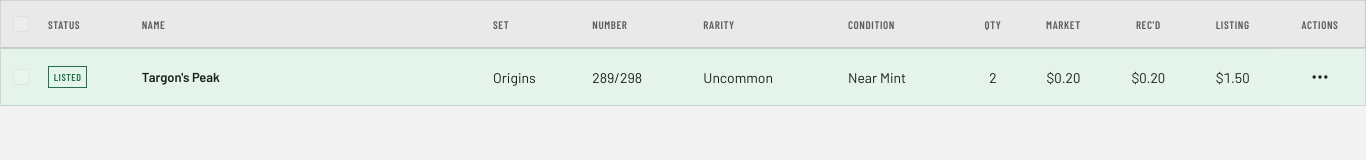
Test: CardTable display-first listing price editing › saves the decimal value through the explicit Save control and confirms success
Click the button named "edit listing price" at {"x": 1233, "y": 77}, box [1216, 68, 1250, 86]
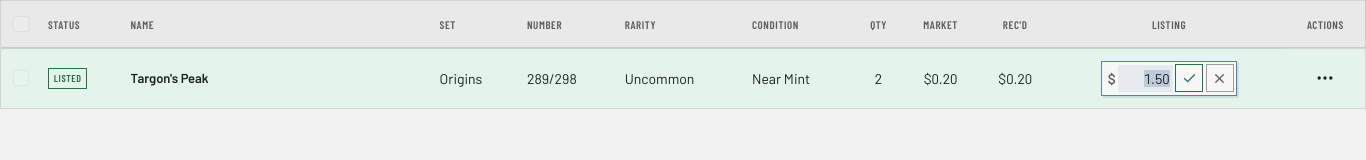
Replace the text in the field named "listing price" with "2.00" at {"x": 1145, "y": 78}, box [1118, 65, 1173, 92]
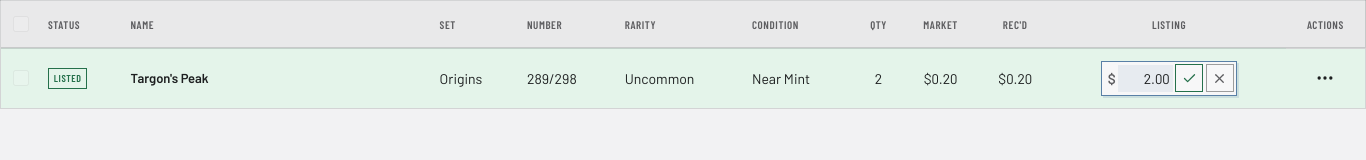
Click the button named "save listing price" at {"x": 1189, "y": 78}, box [1175, 64, 1203, 92]
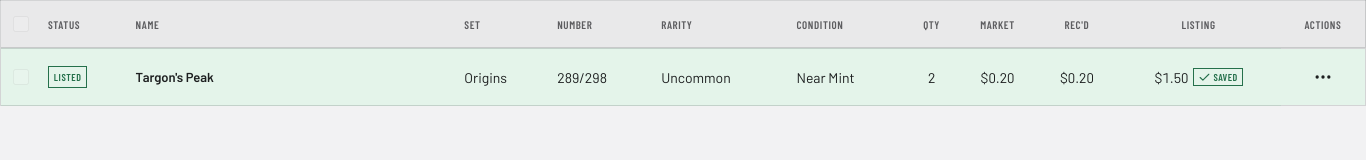
Check: the message reads "Saved", box [1214, 71, 1238, 83]
